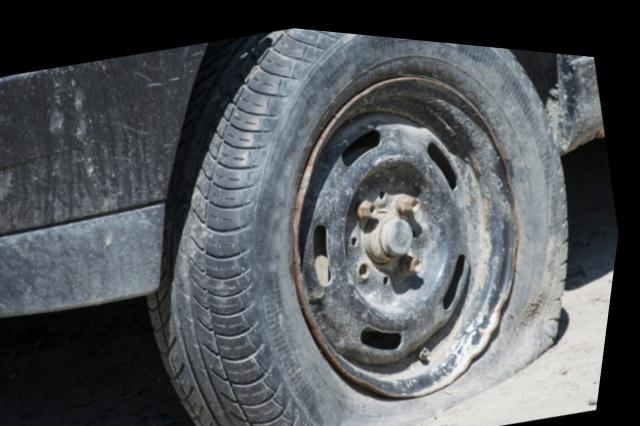tire flat: (156, 22, 575, 426)
